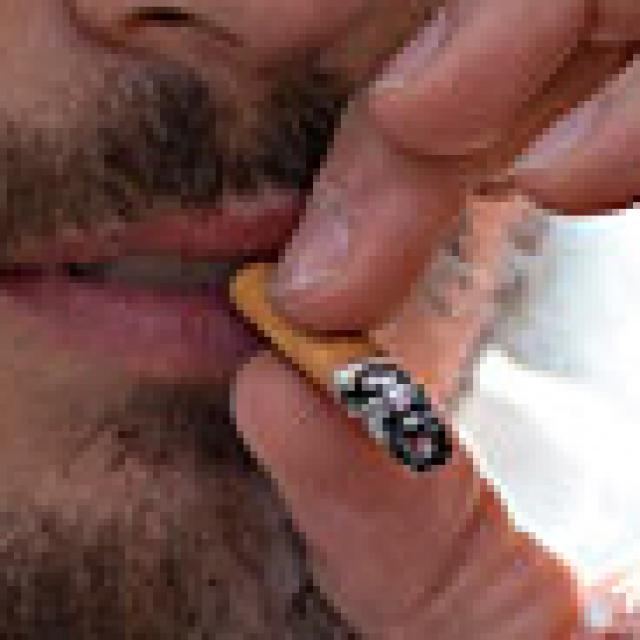smoking: (224, 257, 451, 475)
